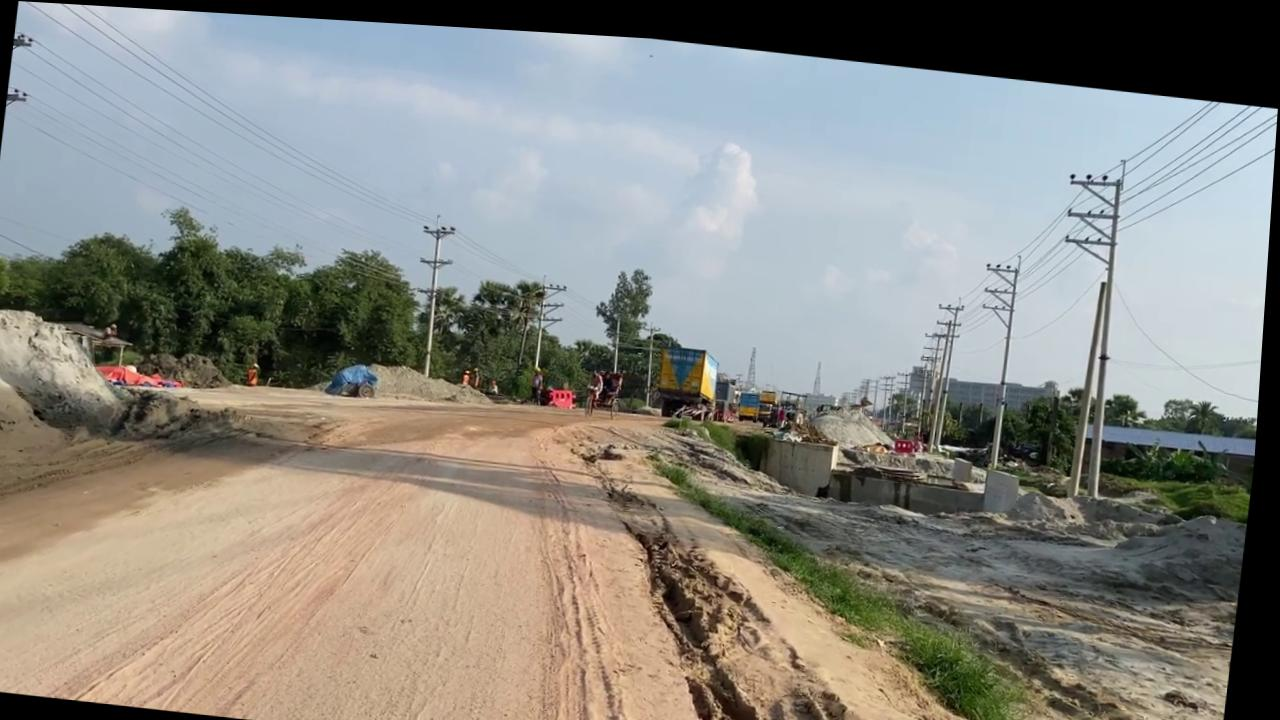Obstacle: (753, 411, 1022, 504)
Pole: (1052, 253, 1087, 445)
Rickshaw: (579, 379, 1250, 720)
Traffic-sign: (629, 236, 690, 317)
Tree: (640, 288, 729, 388), (788, 356, 835, 395), (505, 338, 547, 367)
